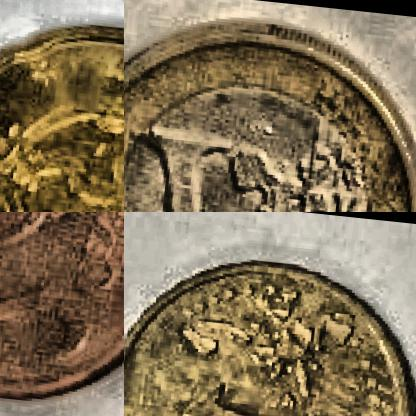coin: (124, 3, 415, 211), (124, 244, 415, 415), (0, 4, 123, 211), (0, 212, 123, 415)
